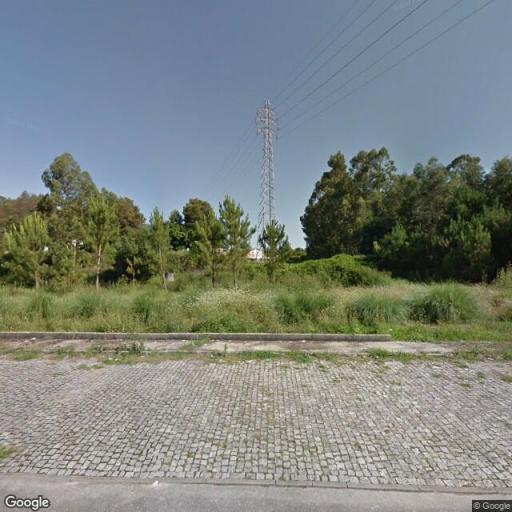ss_3: (254, 99, 281, 232)
